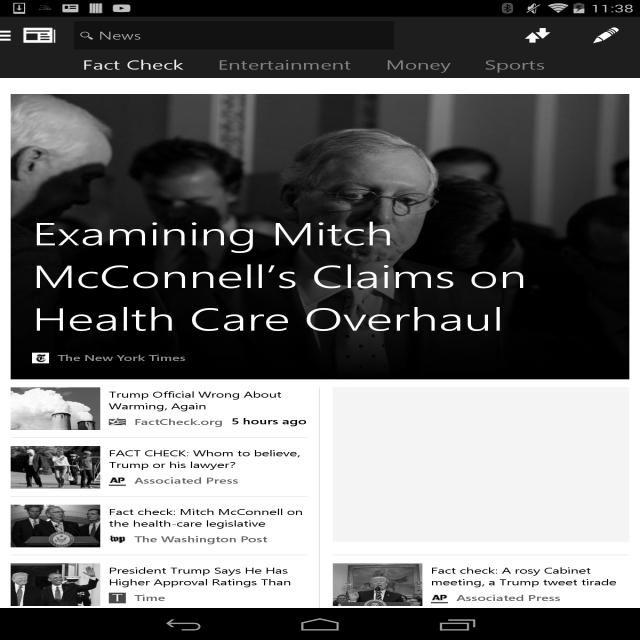EditText: (74, 22, 394, 49)
ImageView: (11, 94, 629, 379), (333, 387, 629, 542), (11, 387, 100, 430), (11, 446, 100, 489), (11, 563, 100, 606), (333, 563, 422, 606), (11, 505, 100, 547), (14, 19, 64, 52), (32, 350, 58, 366), (109, 414, 134, 430), (109, 472, 134, 488), (109, 532, 134, 548), (109, 590, 134, 606), (431, 590, 456, 606), (0, 30, 17, 41)
TextView: (32, 208, 608, 343), (109, 387, 307, 413), (109, 446, 307, 472), (431, 563, 629, 589), (109, 563, 307, 588), (109, 505, 307, 529), (207, 54, 375, 78), (71, 54, 207, 78), (571, 16, 640, 54), (503, 17, 572, 54), (375, 54, 474, 78), (474, 54, 569, 78), (134, 532, 276, 546), (58, 351, 194, 365), (134, 473, 247, 488), (457, 591, 569, 605), (134, 415, 232, 429), (194, 351, 270, 365), (232, 414, 307, 428), (134, 591, 174, 605)
